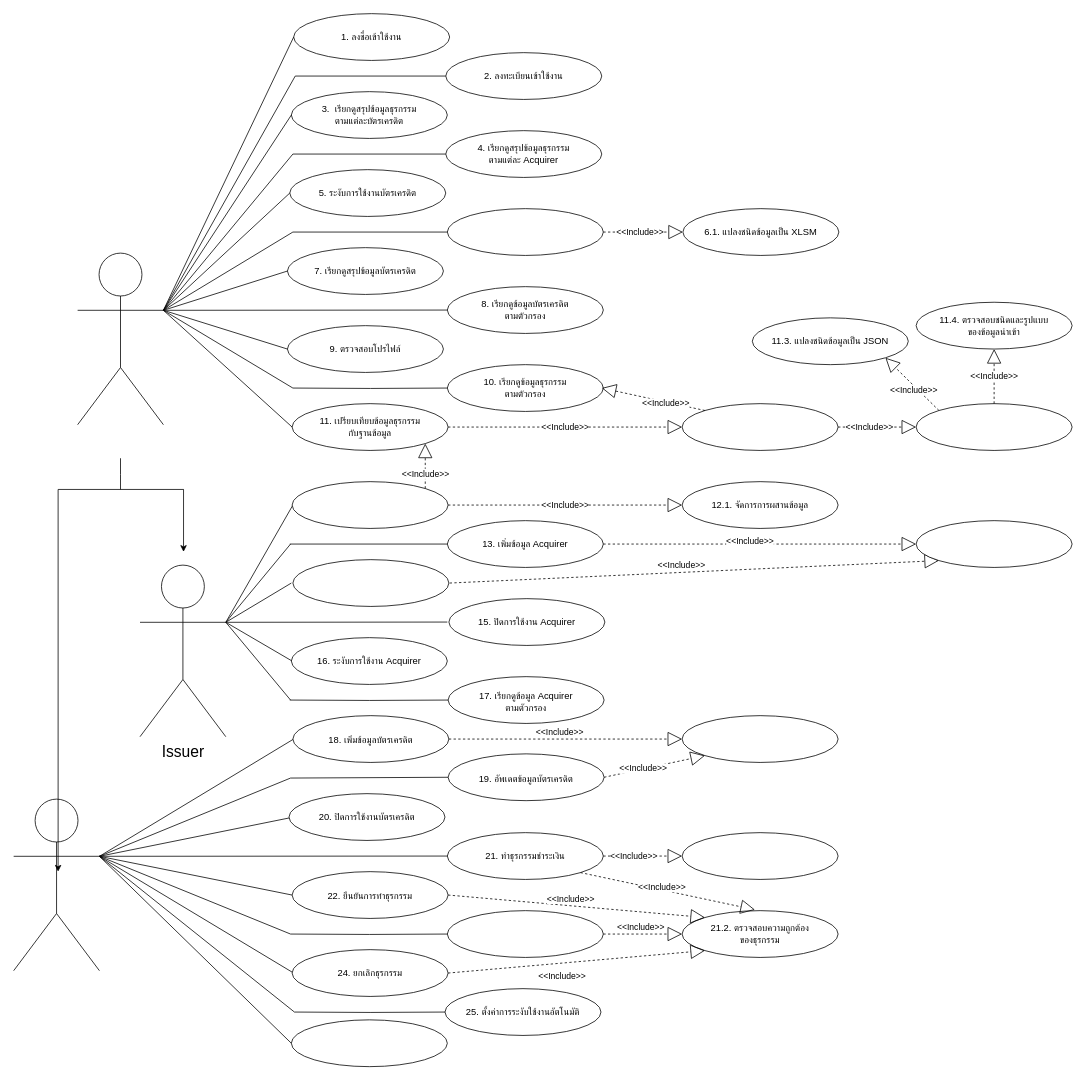
The diagram is 1086 pixels wide and 1080 high, and some of its shapes have lost their labels. The centre of each missing label's shape, as x and y in pixels:
11.1. แสดงผลความแตกต่าง ของข้อมูลธุรกรรม: pixel 759 426
11.2. จัดการข้อมูลนำเข้าธุรกรรม: pixel 993 426
12. ผสานข้อมูลธุรกรรม: pixel 369 504
13.1. ตรวจสอบความถูกต้อง ของ Acquirer: pixel 993 543
14. อัพเดตข้อมูล Acquirer: pixel 370 582
18.1. ตรวจสอบความถูกต้อง ของบัตรเครดิต: pixel 759 738
21.1. ตรวจสอบยอดเงิน และวงเงิน: pixel 759 855
23. เรียกดูสถานะธุรกรรม: pixel 525 933
26. ตั้งค่าการแจ้งเตือนอัตโนมัติ: pixel 369 1043
6. ส่งออกข้อมูลธุรกรรม ตามตัวกรอง: pixel 525 231
Acquirer: pixel 56 884
User: pixel 120 338
